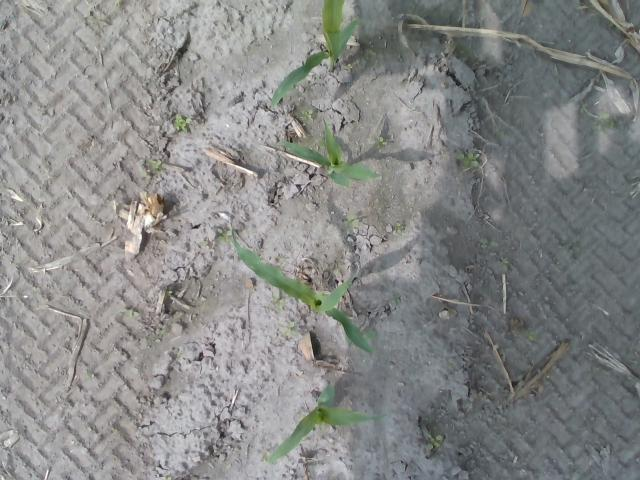Maize: (228, 232, 376, 356), (270, 0, 358, 108), (267, 384, 385, 464), (279, 116, 384, 190)
Weeds: (456, 150, 480, 168), (356, 48, 376, 66), (423, 432, 442, 450), (511, 329, 538, 341), (174, 114, 192, 130), (215, 228, 232, 240), (479, 238, 497, 249), (281, 326, 297, 336), (496, 255, 507, 269), (343, 215, 358, 225), (149, 159, 162, 170), (374, 136, 386, 146), (366, 328, 377, 338), (303, 110, 312, 121), (342, 63, 353, 72), (448, 359, 458, 368), (395, 222, 401, 234), (162, 476, 172, 480)
